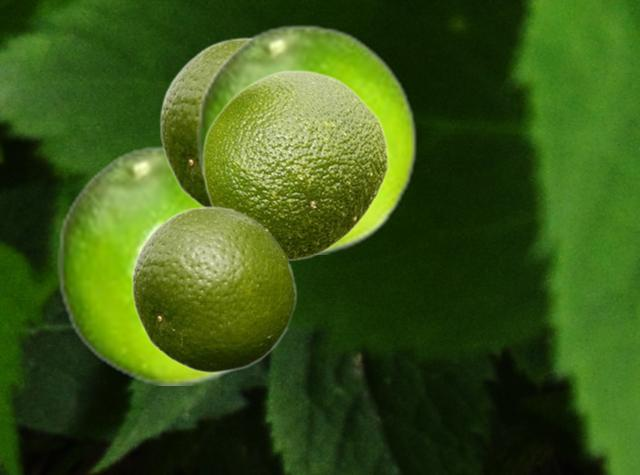calamansi: (196, 23, 417, 253), (57, 144, 243, 384), (201, 69, 388, 261), (131, 204, 296, 373), (159, 35, 249, 205)
